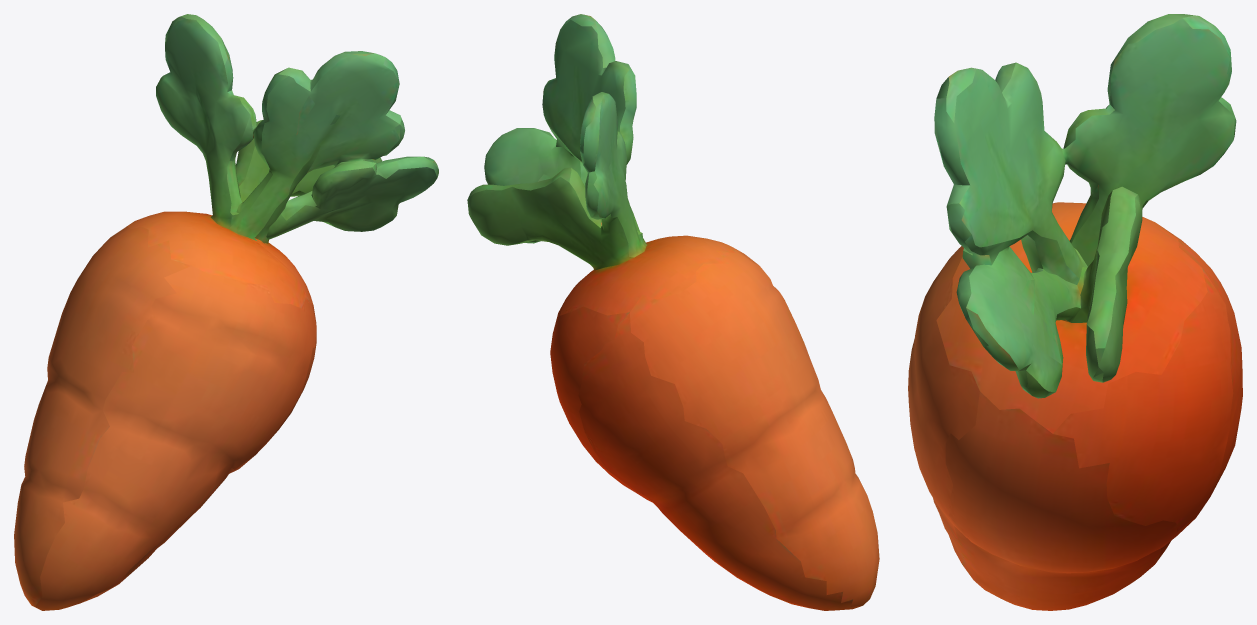
The model's file is carrot.glb.
3 renders of one model, left to right at view 1: azimuth 30°, elevation 25°; view 2: azimuth 150°, elevation 25°; view 3: azimuth 270°, elevation 25°, orthographic. The views are drawn at different scales.
Parts seen in each view (by area): view 1: carrot; view 2: carrot; view 3: carrot.
Boxes of the visible parts, x1,y1,x2,y2 form: carrot: (14,14,438,610); carrot: (467,14,879,610); carrot: (908,14,1242,610).
Bounding box in the file's own units: 0.8313 × 1 × 0.4291.
1 material, 1 textured.
